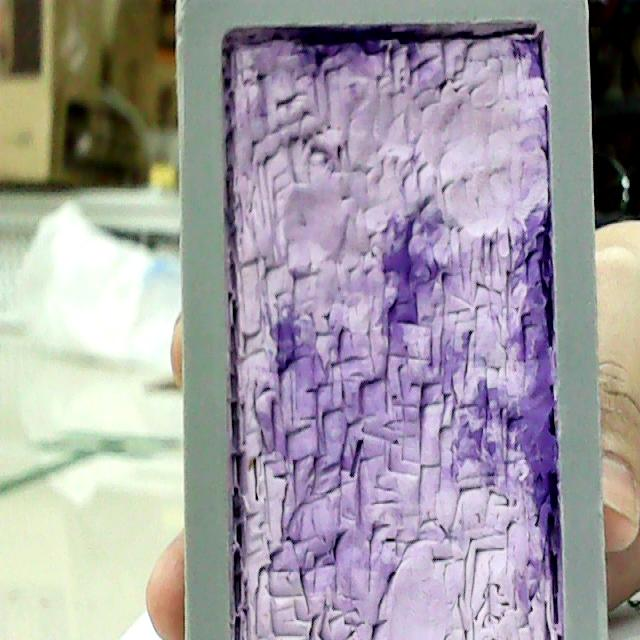block: (170, 0, 608, 640)
